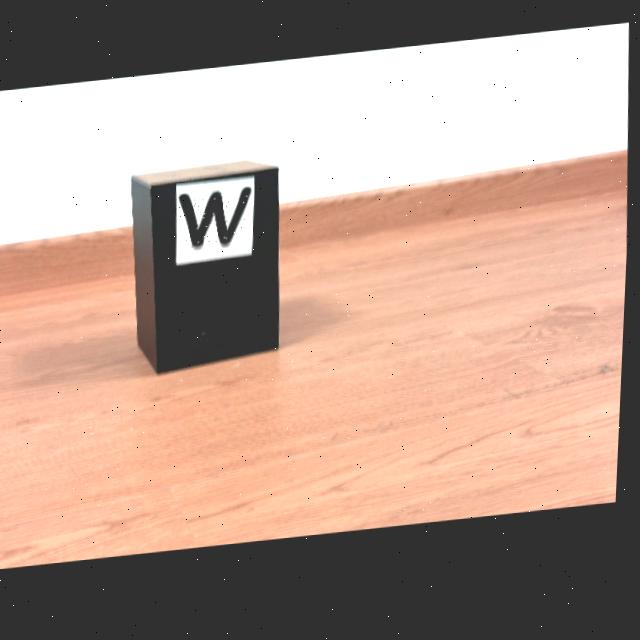W: (180, 192, 253, 251)
